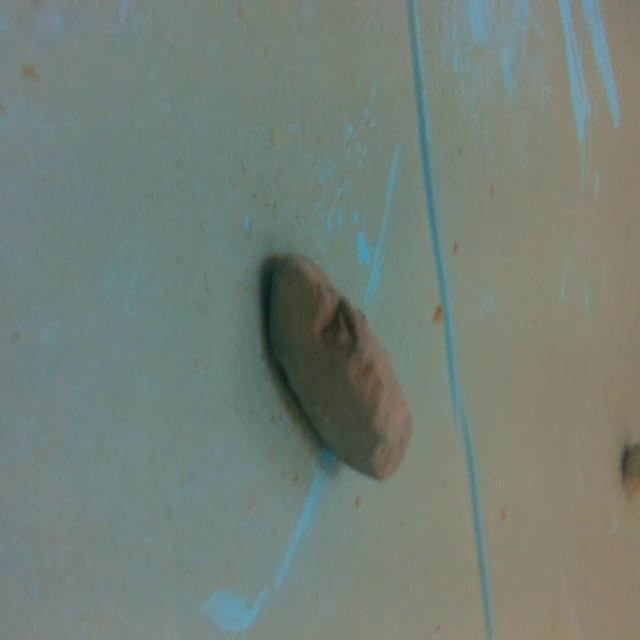rock: (256, 240, 421, 492)
